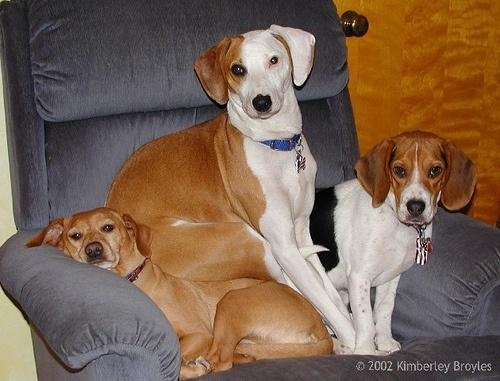chair: (1, 2, 500, 381)
dog: (102, 27, 366, 358), (29, 205, 337, 377), (309, 130, 472, 362)
